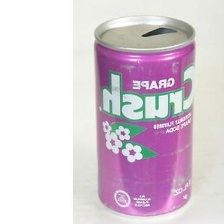can: (88, 12, 201, 220)
